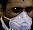with_mask: (2, 2, 33, 30)
